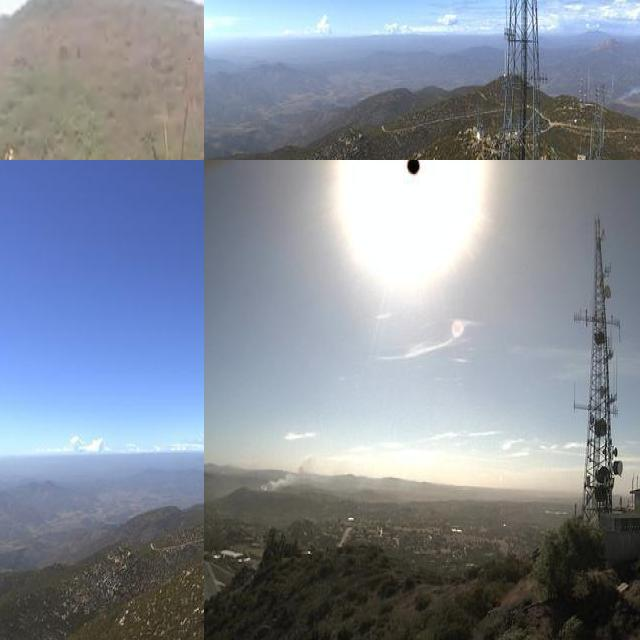smoke: (250, 449, 327, 495), (615, 57, 640, 101)
